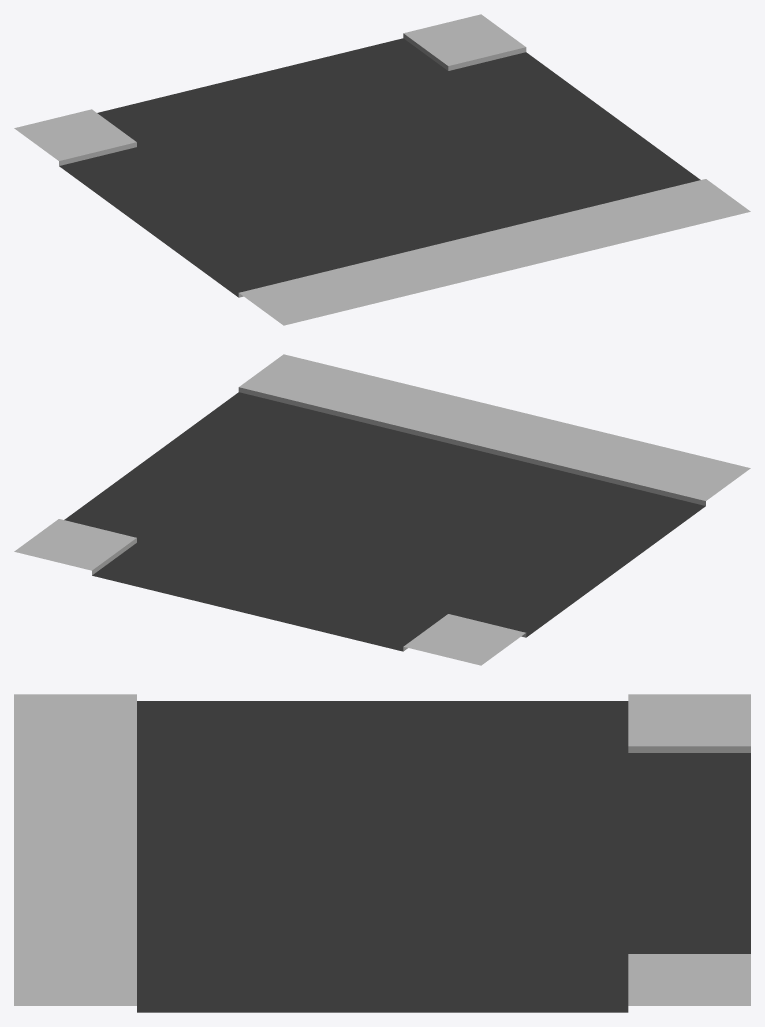
The model's file is Strasse5.glb.
The picture shows the model from 3 angles, top to bottom: view 1: azimuth 30°, elevation 25°; view 2: azimuth 150°, elevation 25°; view 3: azimuth 270°, elevation 25°; orthographic projection. The views are drawn at different scales.
Parts seen in each view (by area): view 1: Strasse5; view 2: Strasse5; view 3: Strasse5.
Part boxes in pixels (<box>): Strasse5: <box>14,14,750,325</box>; Strasse5: <box>14,354,750,665</box>; Strasse5: <box>14,694,750,1012</box>.
Bounding box in the file's own units: 6 × 0.061 × 6.
Materials: 1 (1 with a texture image).
